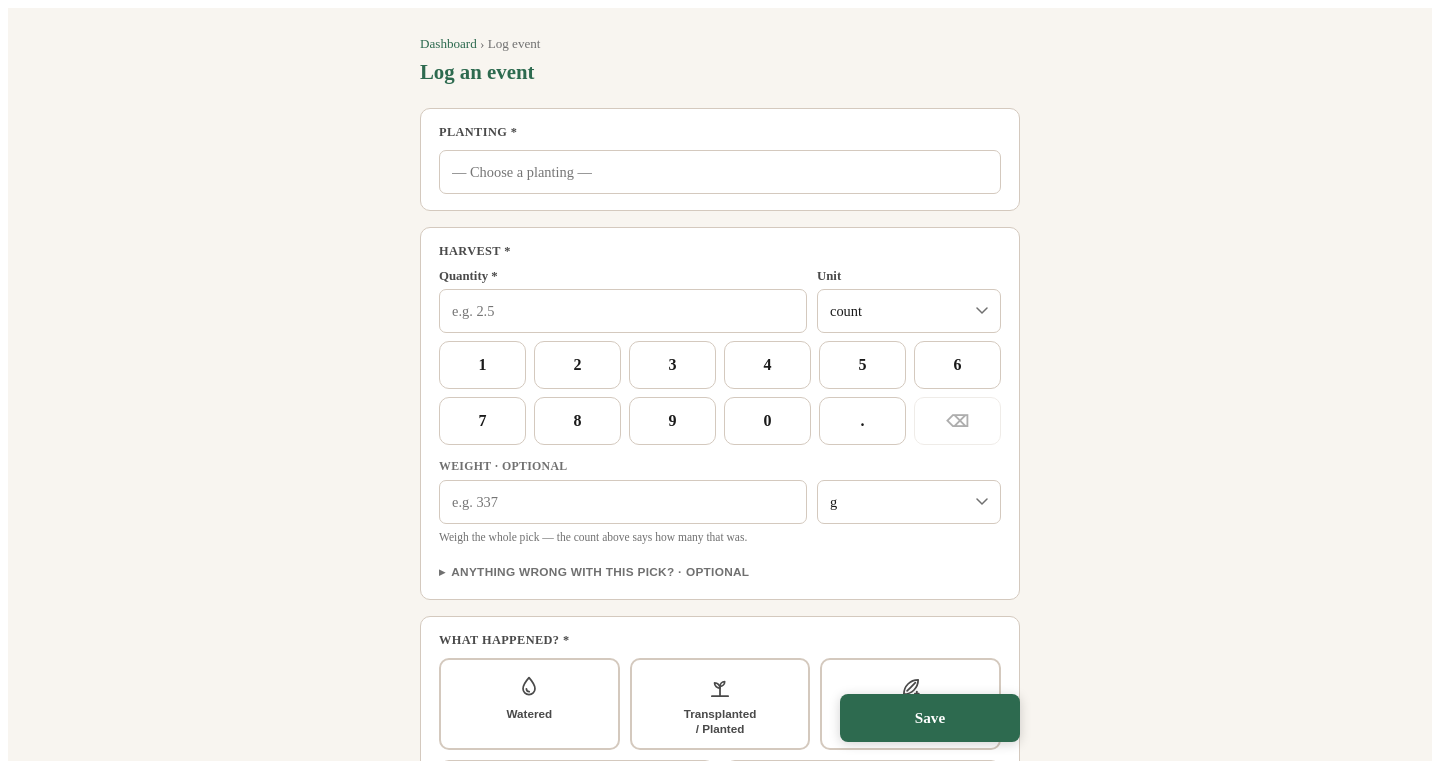
Test case: EventNew — harvest quantity pad (V4-QUICKHITRANGE-001) › ONE tap sets the quantity — no typing into the field
The width and height of the screenshot is (1440, 761).
Expected: the field named "Harvest quantity" is empty, [439,289,807,333]
Click the button with test id "qty-chip-3".
click(672, 365)  # box [629,341,716,389]
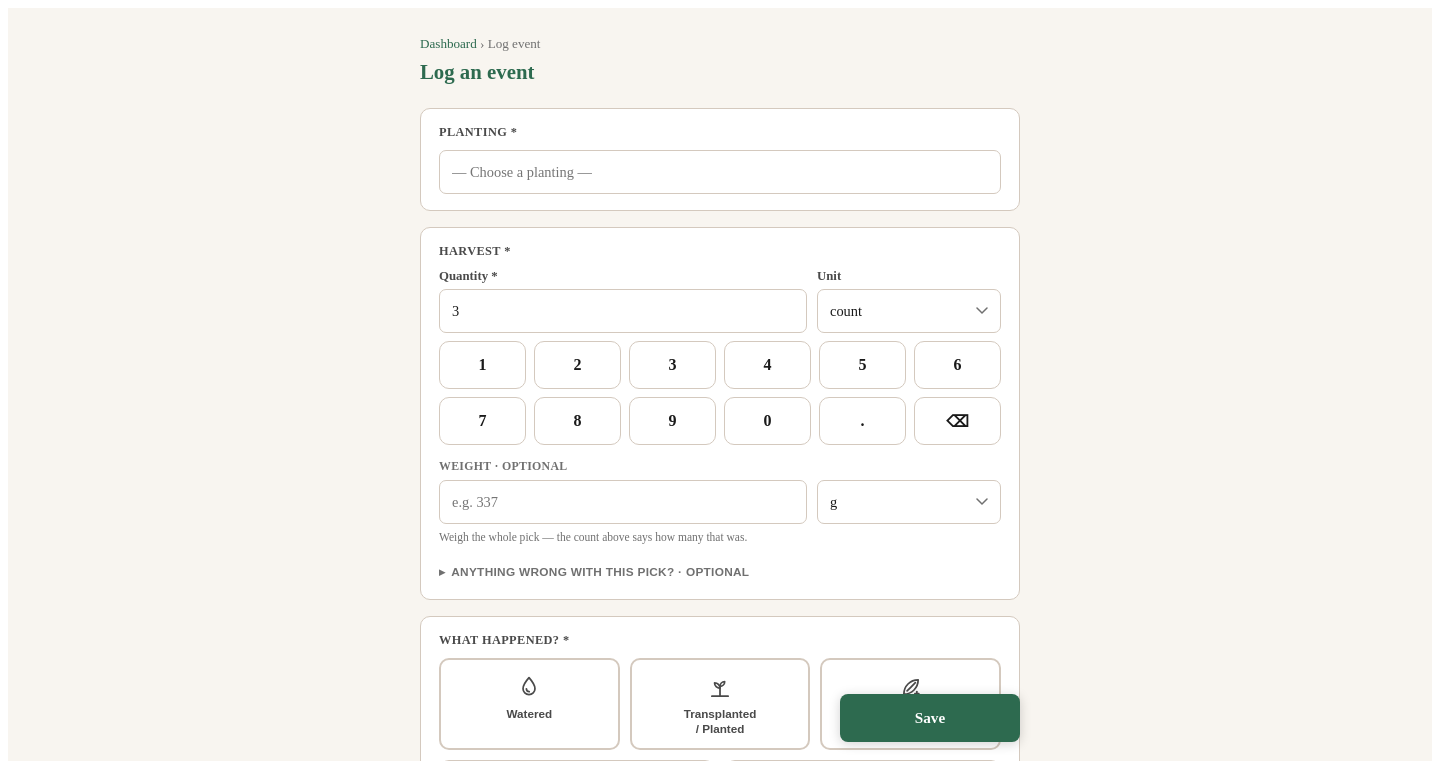
Now the field named "Harvest quantity" holds "3", box [439,289,807,333]
